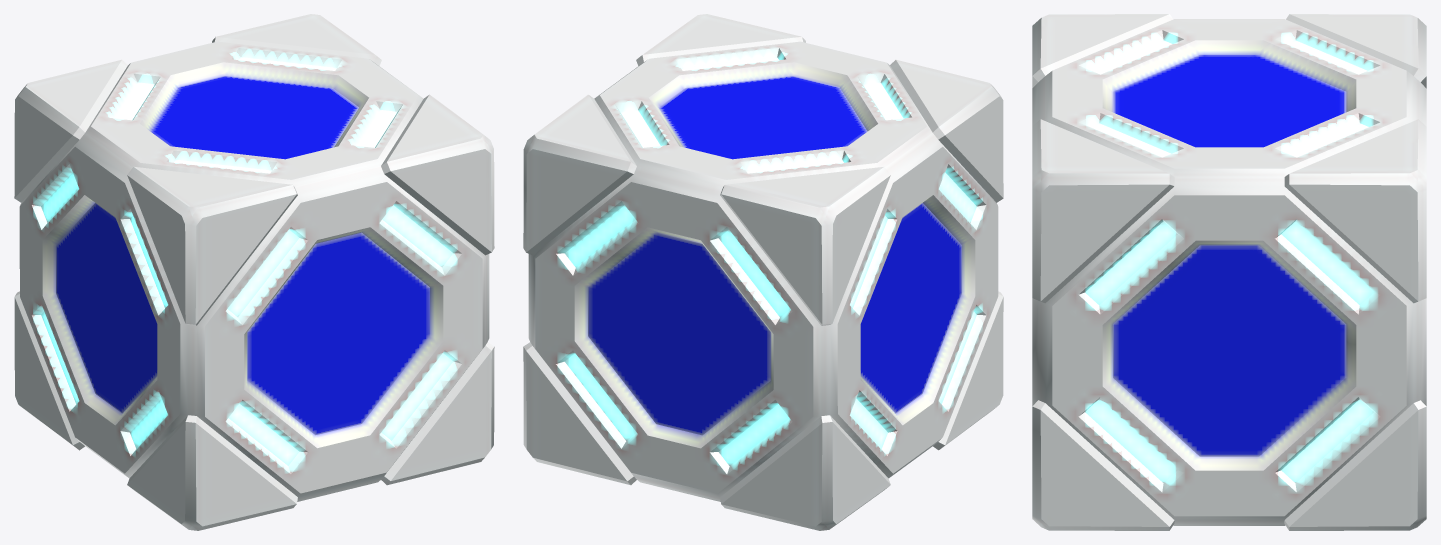
The model's file is HappyBox.dae.
3 renders of one model, left to right at view 1: azimuth 30°, elevation 25°; view 2: azimuth 150°, elevation 25°; view 3: azimuth 270°, elevation 25°, orthographic. The views are drawn at different scales.
Parts seen in each view (by area): view 1: HappyBox; view 2: HappyBox; view 3: HappyBox.
Boxes of the visible parts, x1,y1,x2,y2 form: HappyBox: (14,14,494,530); HappyBox: (523,14,1003,530); HappyBox: (1032,14,1426,530).
Bounding box in the file's own units: 0.7326 × 0.7326 × 0.7326.
Materials: 1 (1 with a texture image).
